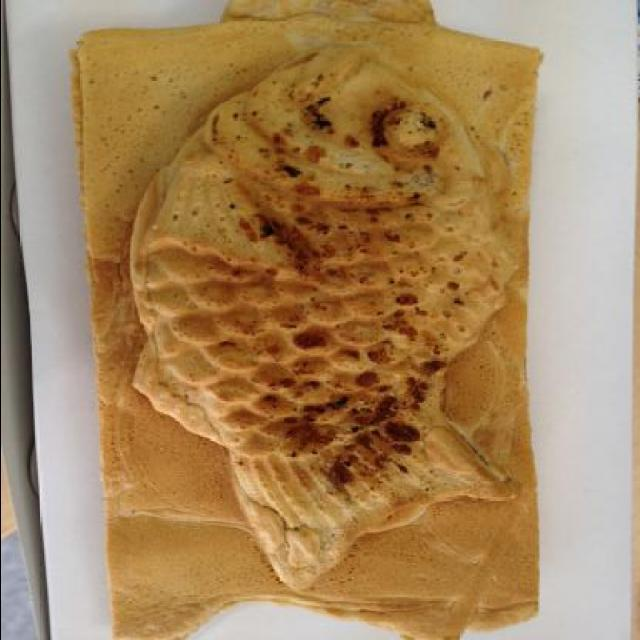Bread: (61, 0, 544, 640)
